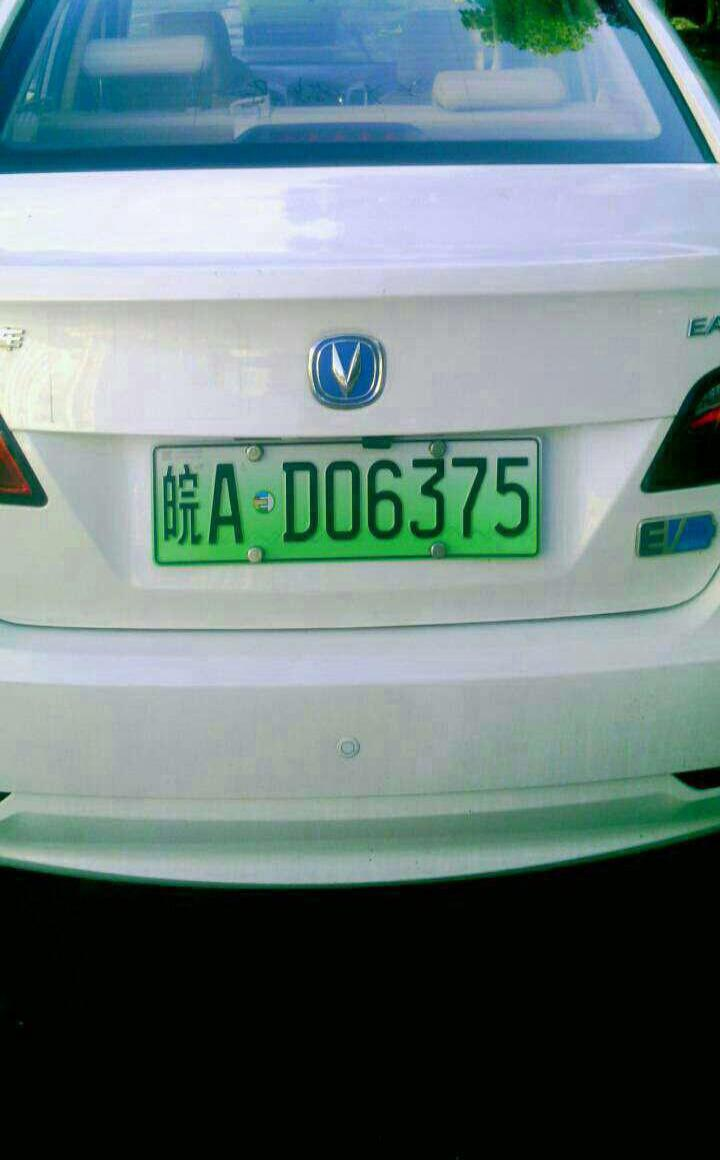car_id: (148, 436, 538, 557)
